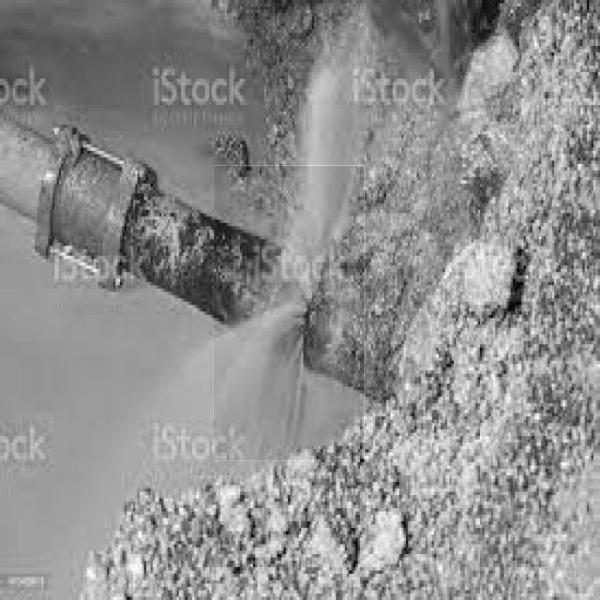water: (214, 166, 364, 460)
